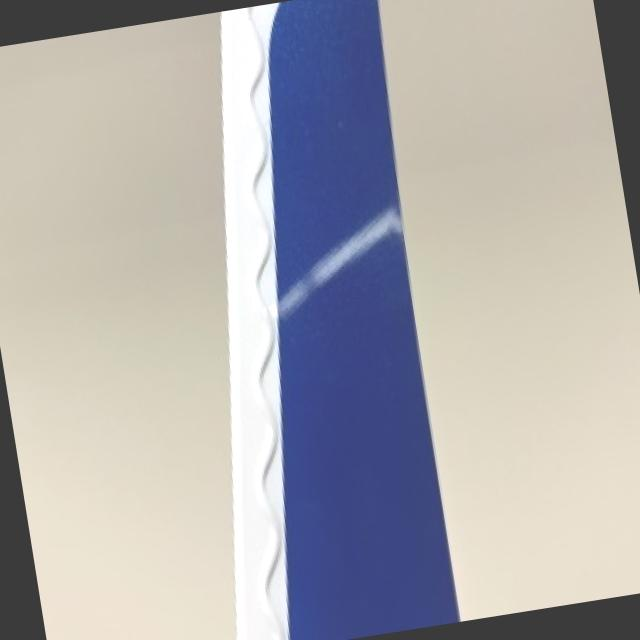healthy: (226, 0, 458, 640)
